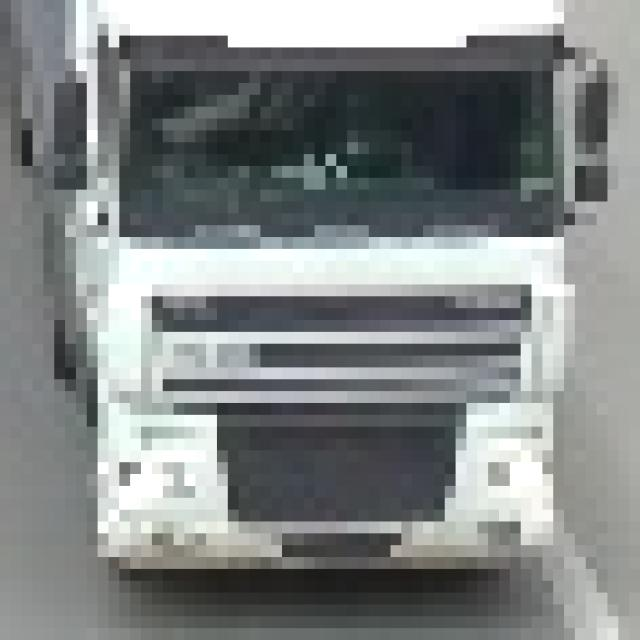TRUCK: (43, 0, 575, 581)
